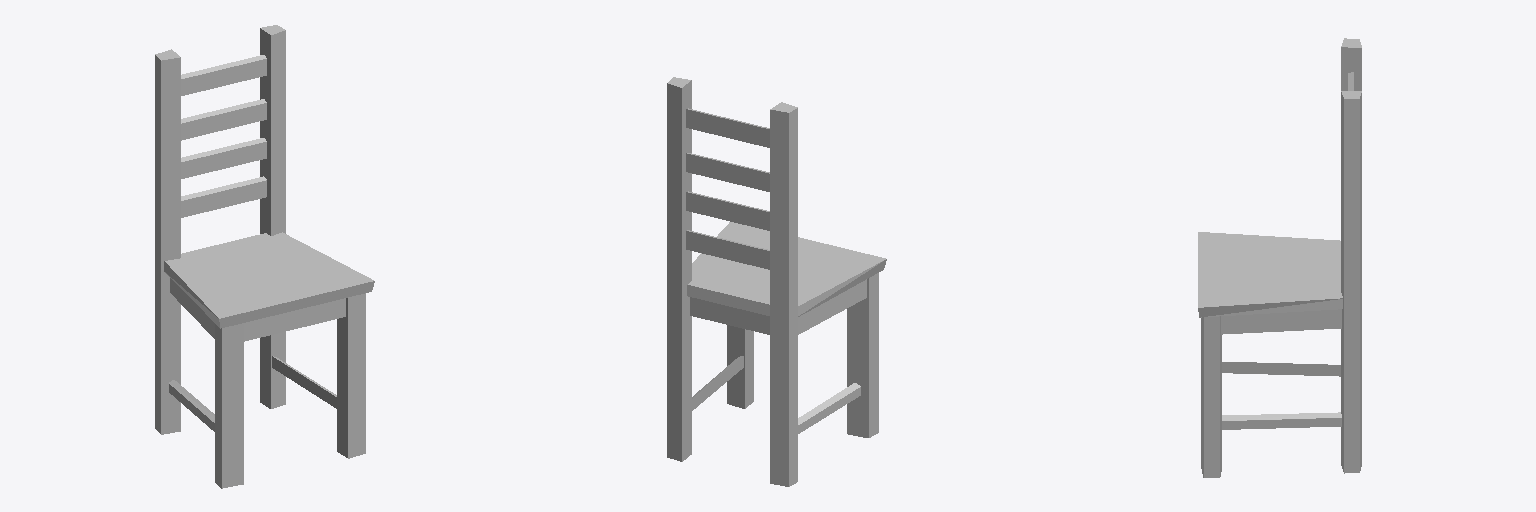
The model's file is Chair.obj.
The picture shows the model from 3 angles: view 1: azimuth 30°, elevation 25°; view 2: azimuth 150°, elevation 25°; view 3: azimuth 270°, elevation 25°; orthographic projection.
Bounding box in the file's own units: 5.58 × 12.78 × 5.09.